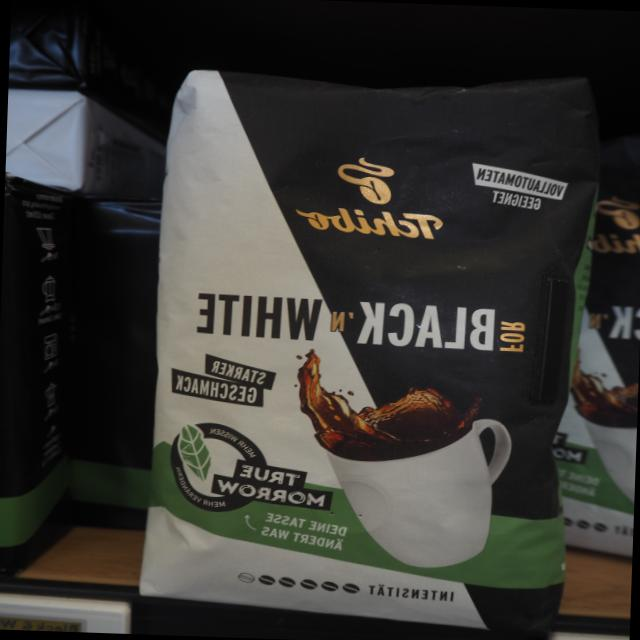BW Bohne: (135, 51, 610, 640)
